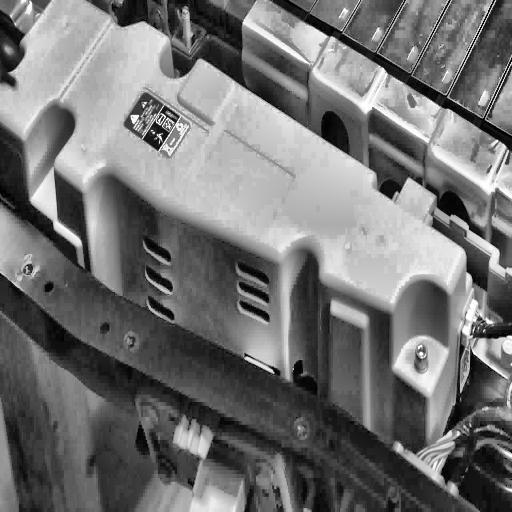busbar: (0, 0, 467, 428)
nut: (414, 343, 430, 374)
